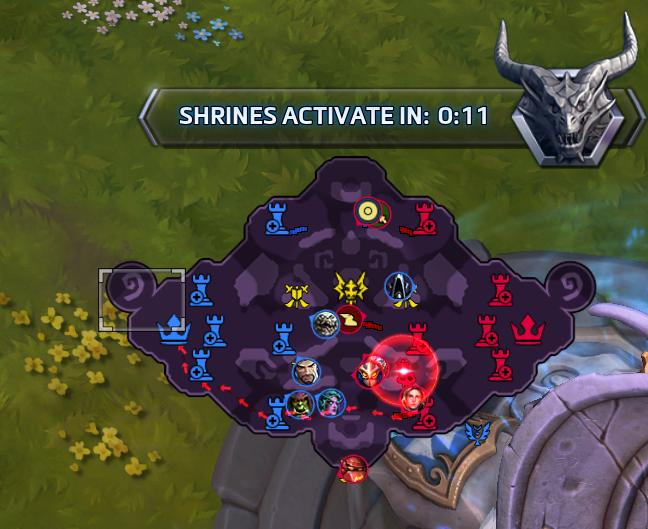blue nexus: (156, 310, 194, 348)
blue player: (384, 271, 415, 304), (311, 309, 340, 339), (291, 357, 320, 386), (317, 388, 346, 417), (285, 390, 314, 419)
blue tower: (263, 200, 292, 235), (186, 347, 214, 381), (187, 272, 214, 306), (264, 394, 290, 429), (202, 313, 227, 347), (270, 321, 295, 354)
red nexus: (509, 312, 546, 345)
red player: (337, 454, 368, 483), (335, 304, 363, 334), (355, 195, 383, 225), (366, 201, 394, 231), (398, 384, 427, 411), (354, 360, 381, 388), (363, 353, 388, 380)
red tower: (412, 199, 438, 237), (487, 347, 513, 382), (487, 272, 513, 307), (411, 397, 437, 432), (474, 313, 498, 348)
